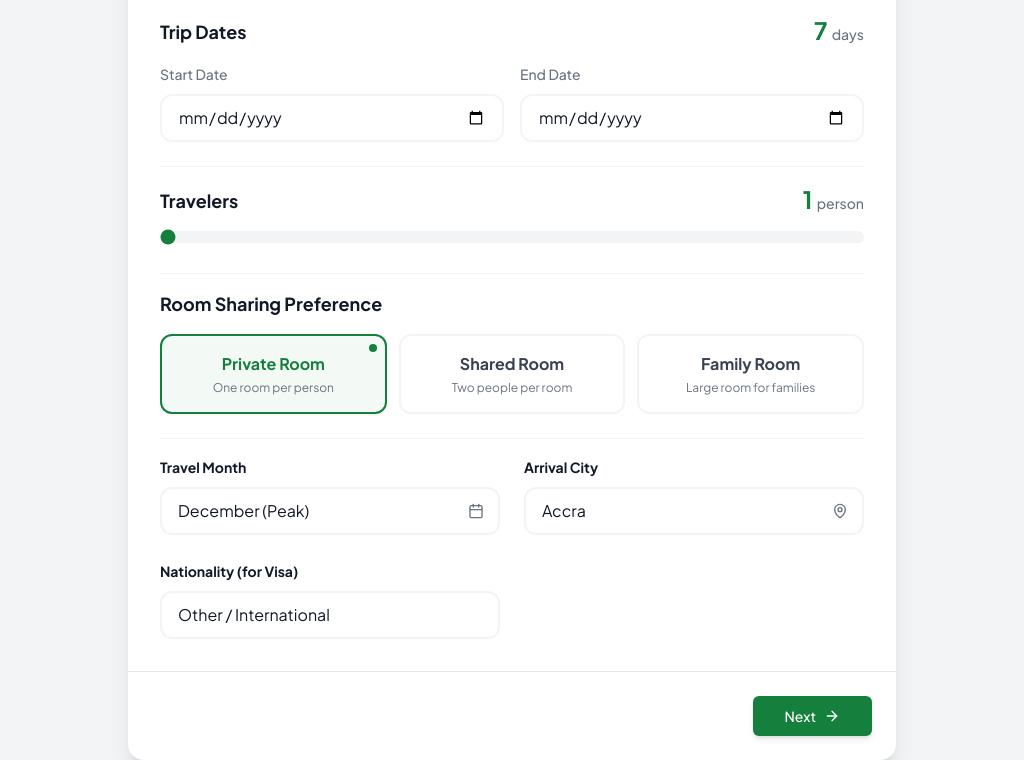
Test: BudgetForm › navigates back and forth
(page scrolled)
Click the button "Next": (812, 716) [752,696,872,736]
(page scrolled)
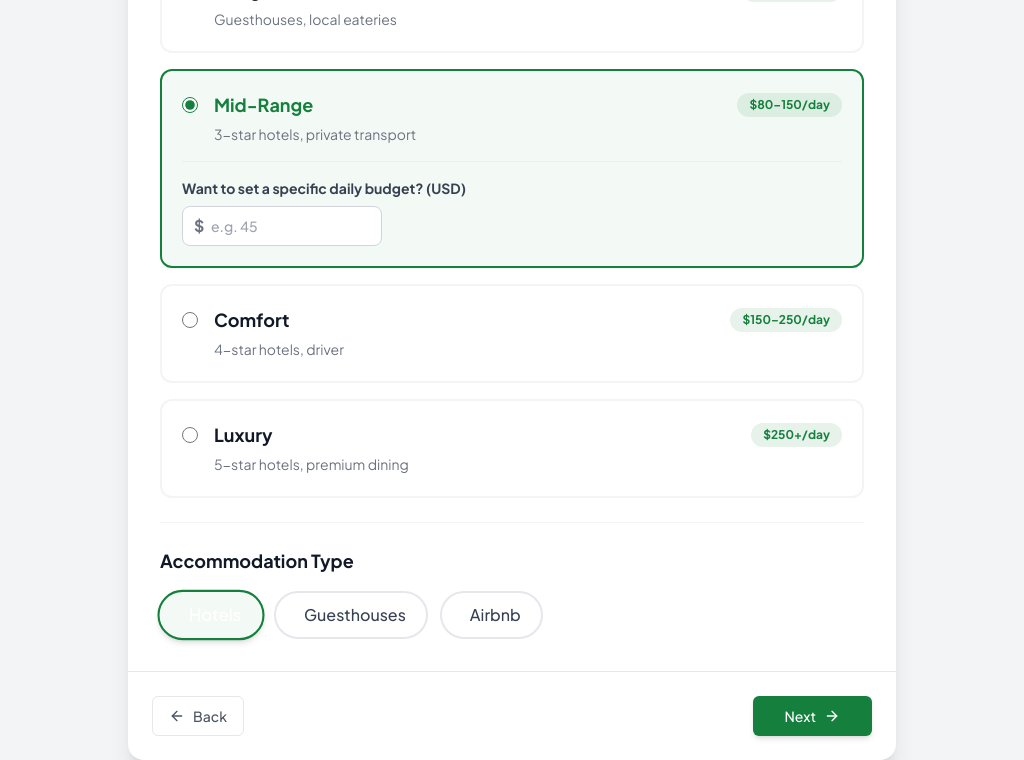
Click the button "Back": (198, 716) [152,696,244,736]
(page scrolled)
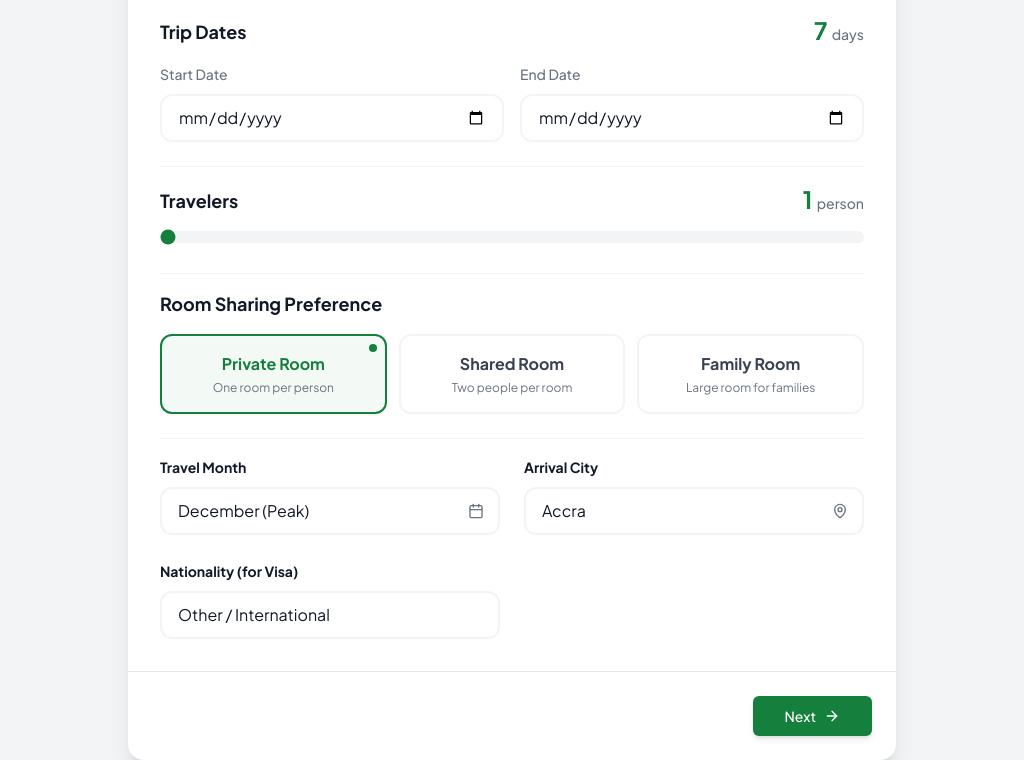
Now the text "Trip Dates" is shown, box [160,18,246,46]
